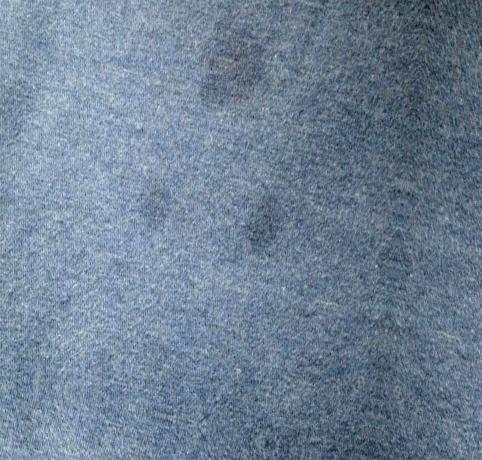stain: (194, 26, 276, 118), (239, 193, 302, 259), (133, 186, 174, 252)
